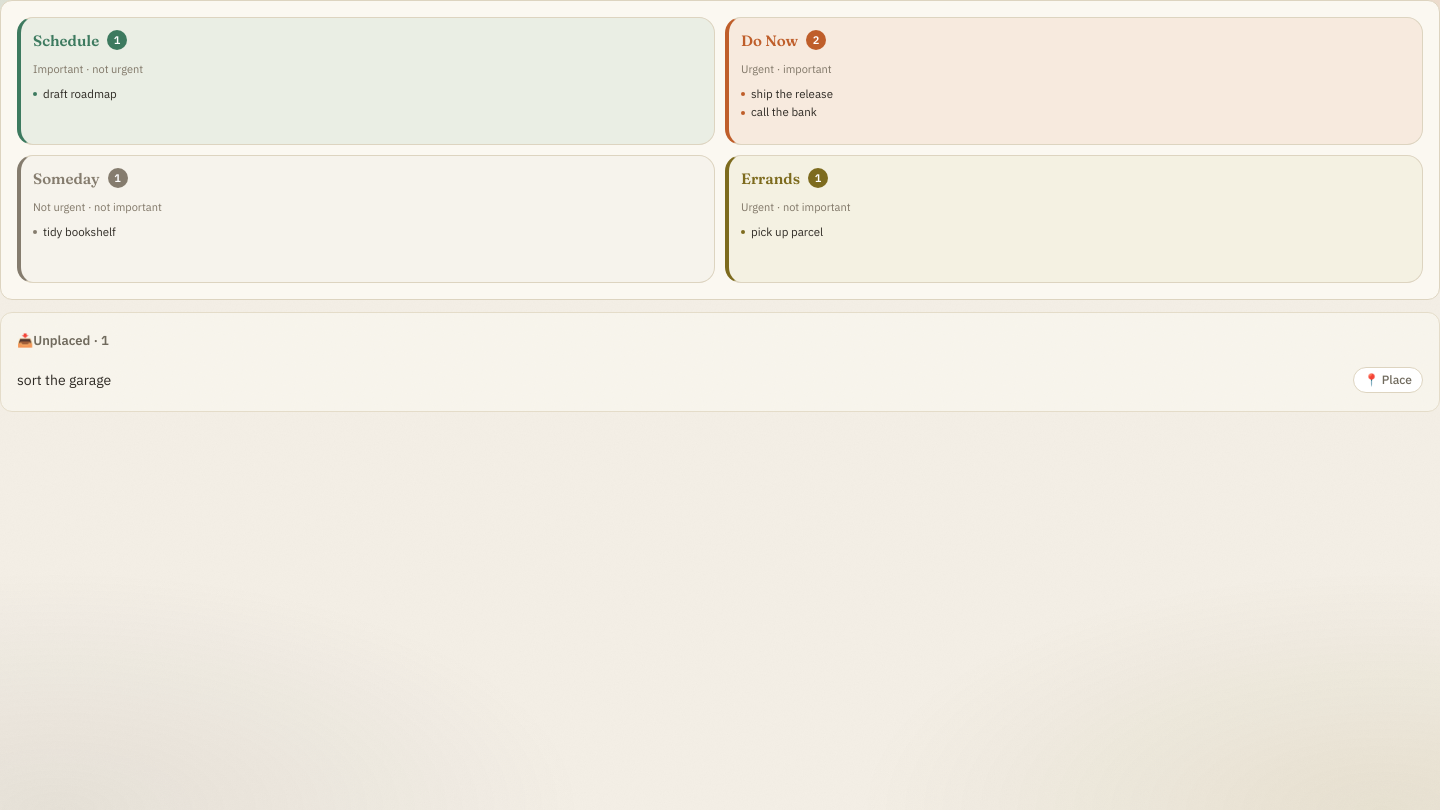
Test: MobileMatrix › unplaced strip › picking a quadrant materializes the task: coords inside it + staged:false
Click the button with aria-label "Place sort the garage" at (1388, 380), box [1353,367,1423,393]
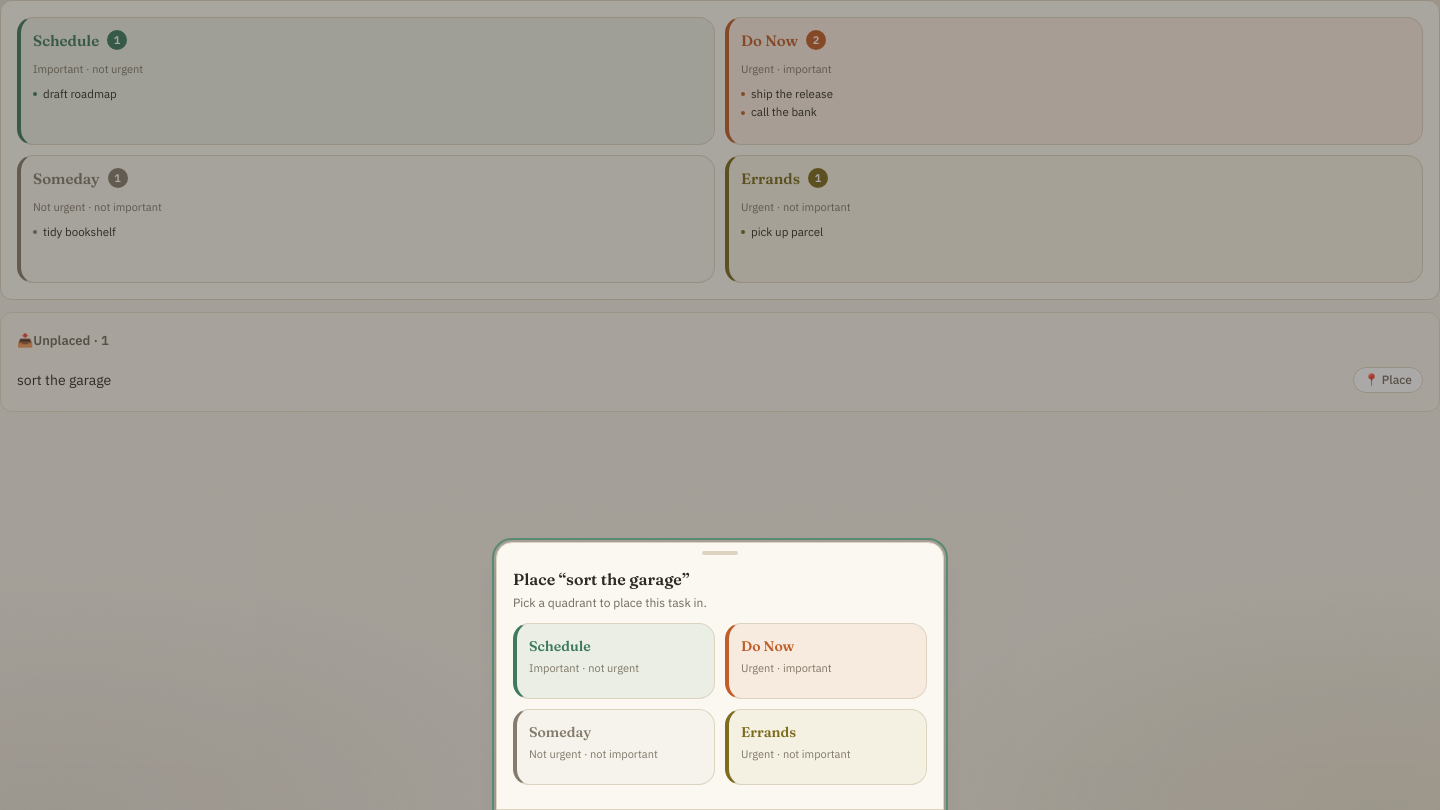
Click the button with aria-label "Move to Schedule" at (614, 661), box [513,623,715,699]
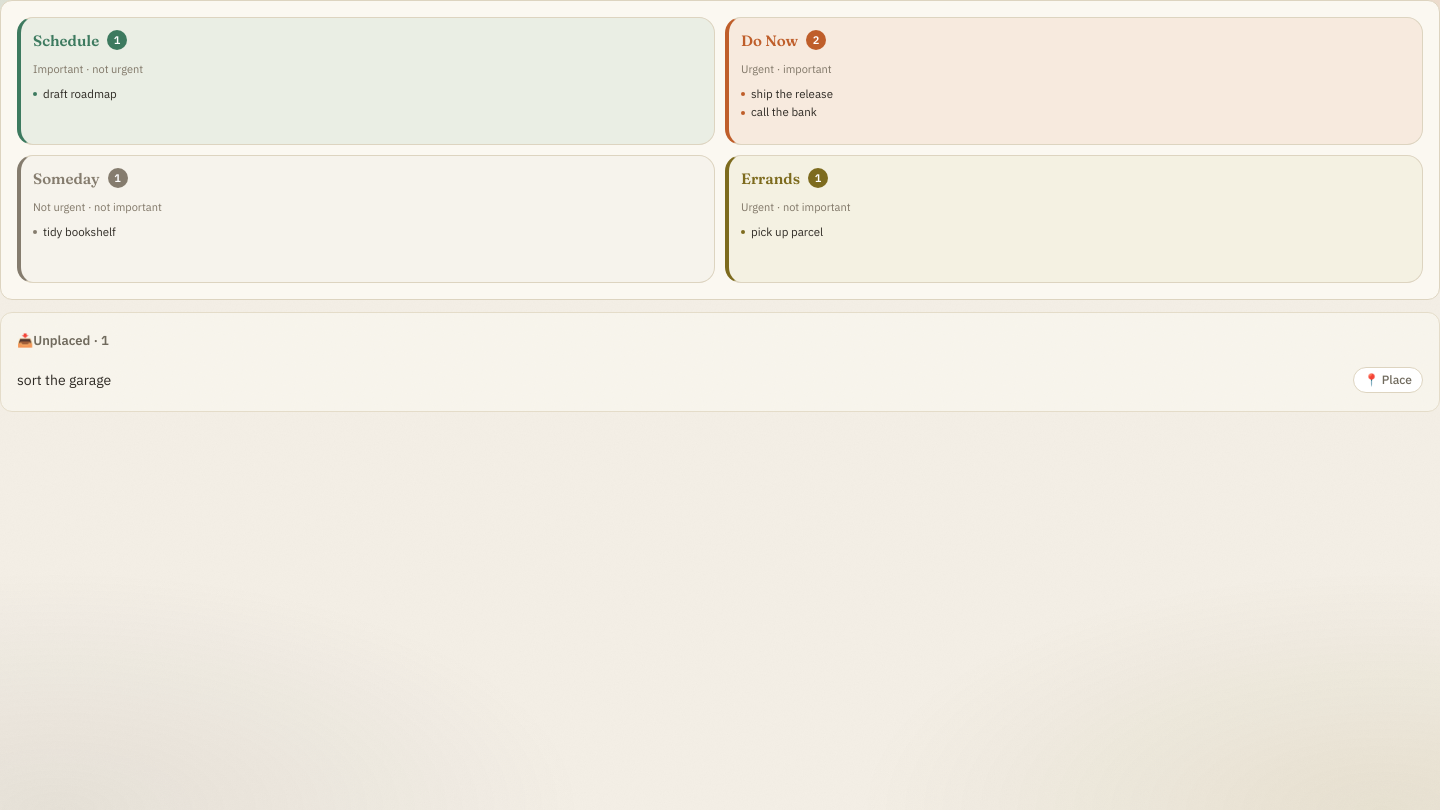
expect the dialog is gone: met
